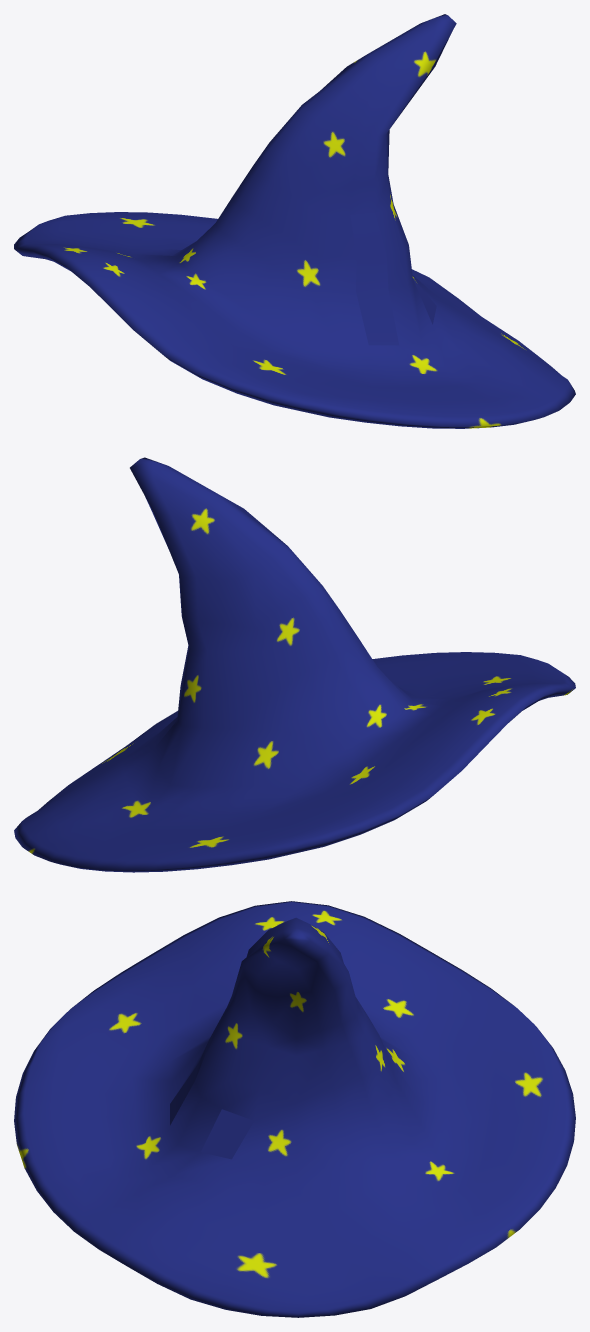
Rendered from sombrero.fbx.
3 views of the same model, one above another, from view 1: azimuth 30°, elevation 25°; view 2: azimuth 150°, elevation 25°; view 3: azimuth 270°, elevation 25° (orthographic). The views are drawn at different scales.
Visible parts, largest first — view 1: pDisc2; view 2: pDisc2; view 3: pDisc2.
Part boxes in pixels (<box>): pDisc2: <box>14,14,575,428</box>; pDisc2: <box>14,457,575,872</box>; pDisc2: <box>14,901,575,1317</box>.
Size of the model in its own units: 238 by 176 by 258.
